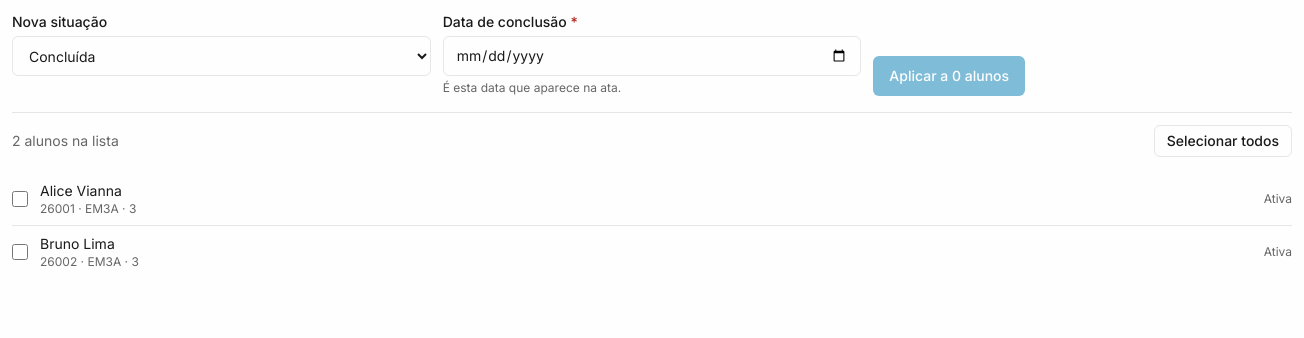
Test: mudança de situação em lote › avisa quando ninguém mudou
Click the checkbox labelled "Alice Vianna 26001 · EM3A · 3 Ativa": {"x": 20, "y": 199} [12,191,28,207]
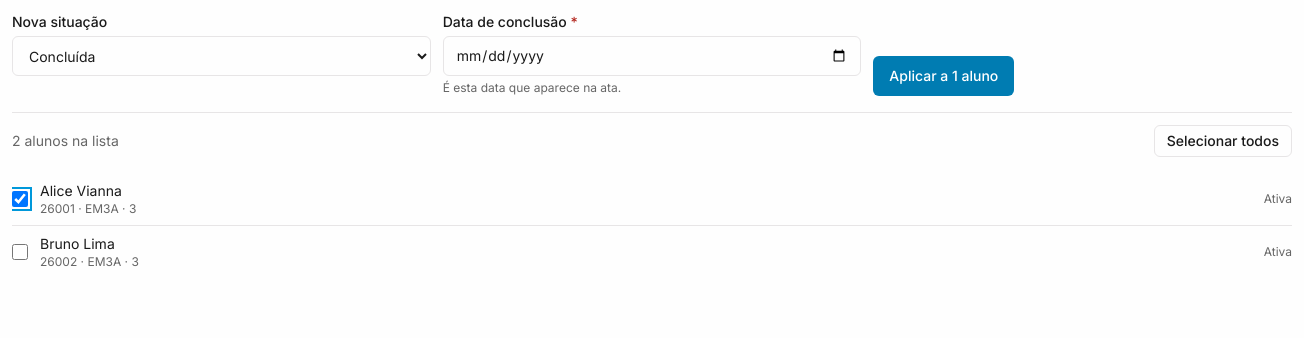
In the date field labelled "Data de conclusão *": {"x": 652, "y": 56} [443,36,861,76], type "2026-07-15"
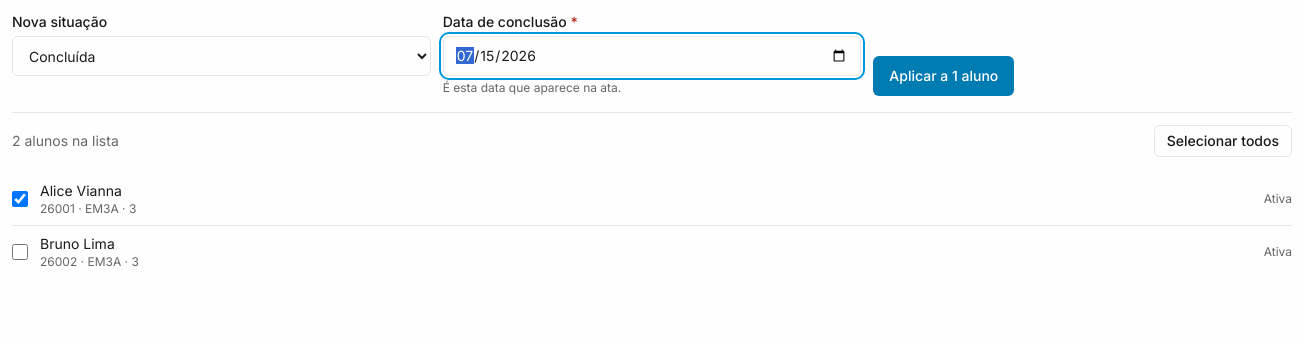
Click the button "Aplicar a 1 aluno": {"x": 944, "y": 76} [873,56,1014,96]
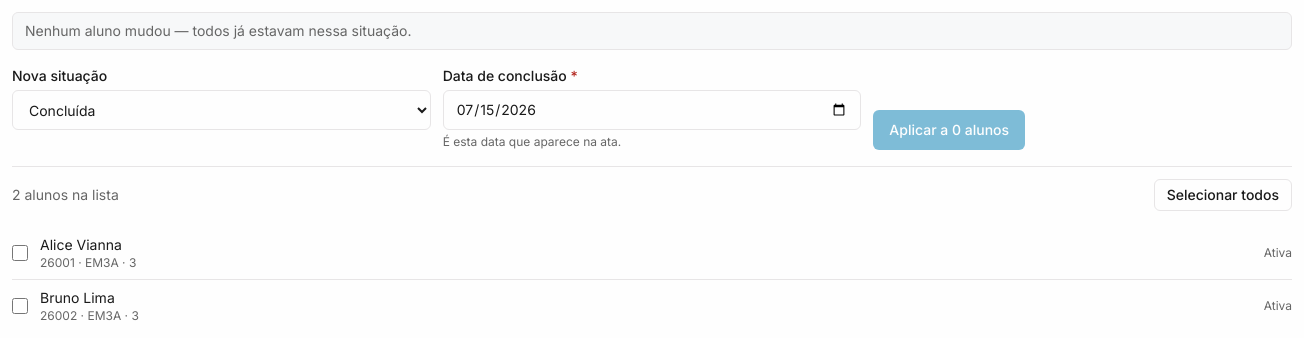
Expected: the text "Nenhum aluno mudou — todos já estavam nessa situação." is shown, [12,12,1292,50]
